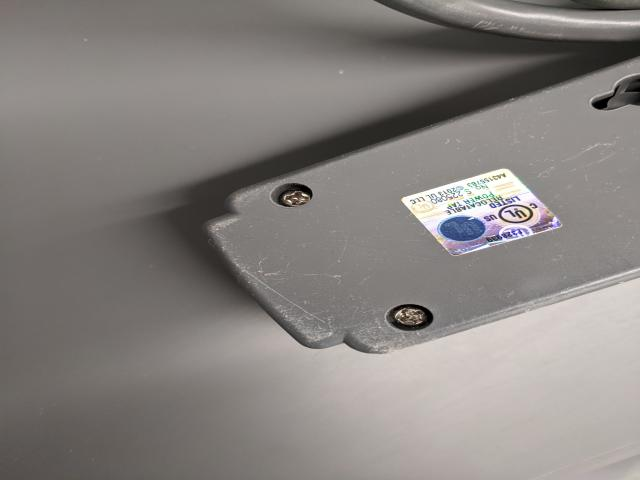CRS: (392, 305, 436, 328), (276, 188, 312, 211)
